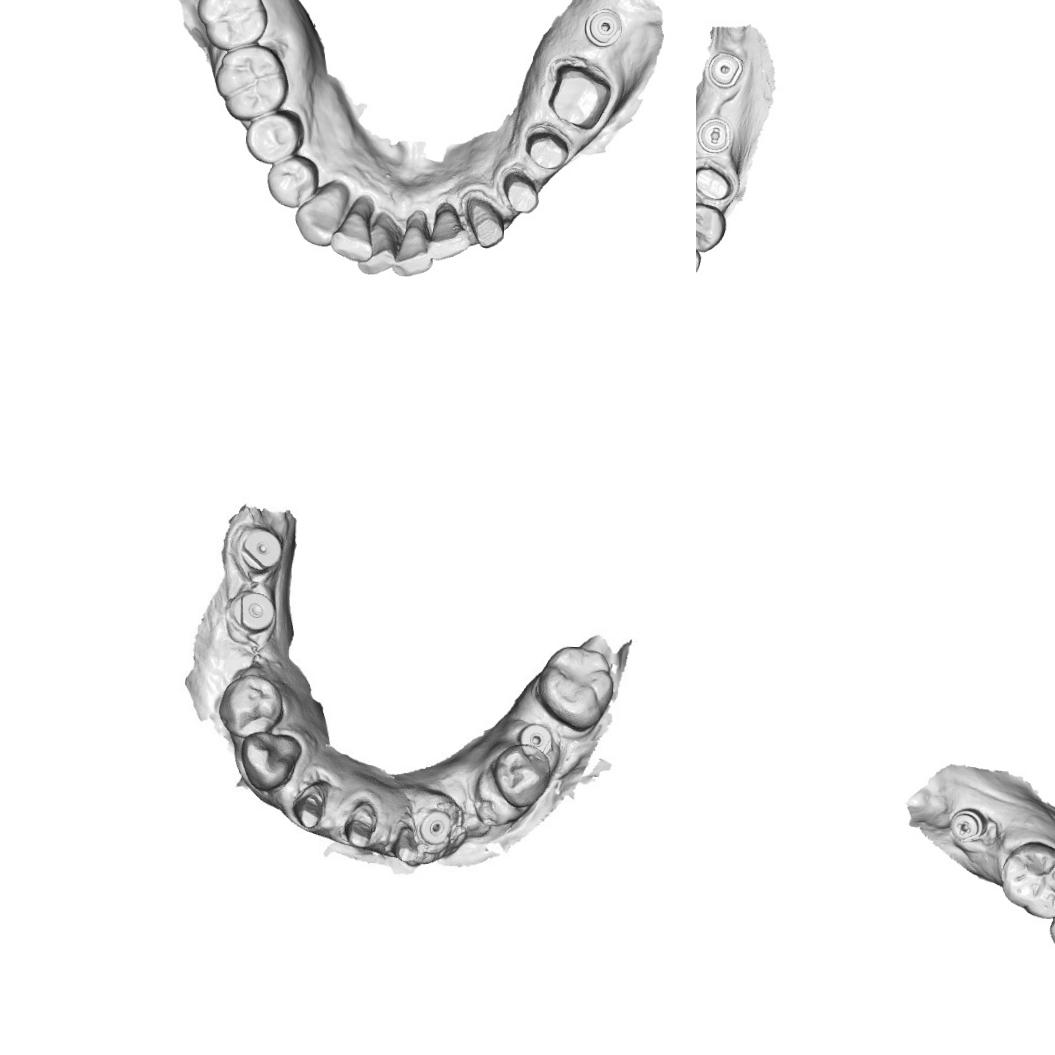canine: (293, 178, 351, 248), (240, 724, 297, 784)
crown: (546, 62, 614, 133), (460, 190, 506, 249), (522, 123, 570, 171), (292, 780, 334, 830), (499, 168, 541, 215), (339, 797, 379, 846), (696, 155, 735, 203), (392, 827, 422, 864)
implant: (235, 522, 284, 574), (228, 588, 278, 636), (582, 6, 626, 49), (519, 719, 559, 759), (706, 51, 744, 90), (419, 810, 451, 846)
implant_minus: (696, 114, 733, 154)
implant_plus: (948, 806, 989, 842)
incisor: (329, 194, 375, 262), (390, 209, 434, 277), (426, 200, 472, 262), (357, 211, 399, 276)
molar: (212, 42, 290, 122), (542, 646, 611, 722), (997, 839, 1055, 920), (194, 0, 269, 51)
premolar: (245, 108, 305, 166), (494, 742, 548, 804), (223, 673, 280, 730), (265, 154, 320, 208), (696, 201, 727, 254)
